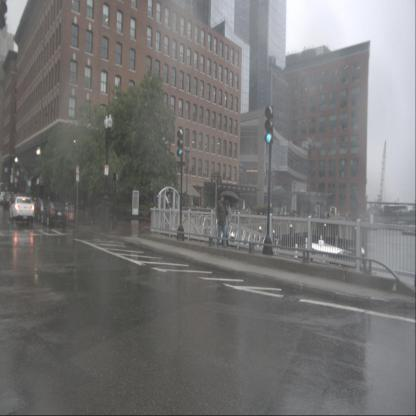human-pedestrian-adult: (216, 190, 239, 252), (221, 198, 232, 250), (161, 192, 172, 230)
vehicle-car: (9, 196, 35, 225), (40, 201, 67, 227), (30, 197, 54, 222), (3, 192, 15, 207), (0, 192, 8, 204)
